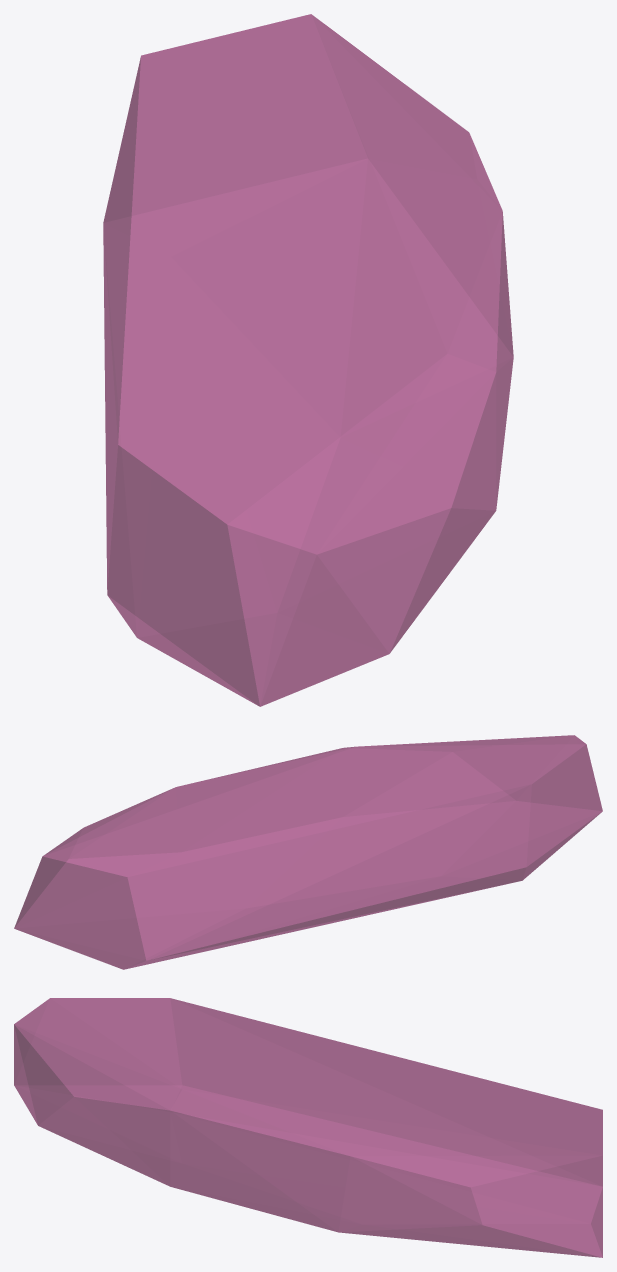
3 renders of one model, top to bottom at view 1: azimuth 30°, elevation 25°; view 2: azimuth 150°, elevation 25°; view 3: azimuth 270°, elevation 25°, orthographic. The views are drawn at different scales.
Visible parts, largest first — view 1: Shape_IndexedFaceSet.007_Shape_IndexedFaceSet.10642; view 2: Shape_IndexedFaceSet.007_Shape_IndexedFaceSet.10642; view 3: Shape_IndexedFaceSet.007_Shape_IndexedFaceSet.10642.
Boxes of the visible parts, x1,y1,x2,y2 form: Shape_IndexedFaceSet.007_Shape_IndexedFaceSet.10642: (103, 14, 513, 706); Shape_IndexedFaceSet.007_Shape_IndexedFaceSet.10642: (14, 735, 602, 969); Shape_IndexedFaceSet.007_Shape_IndexedFaceSet.10642: (14, 998, 602, 1257).
Bounding box in the file's own units: 0.0843 × 0.0273 × 0.1216.
